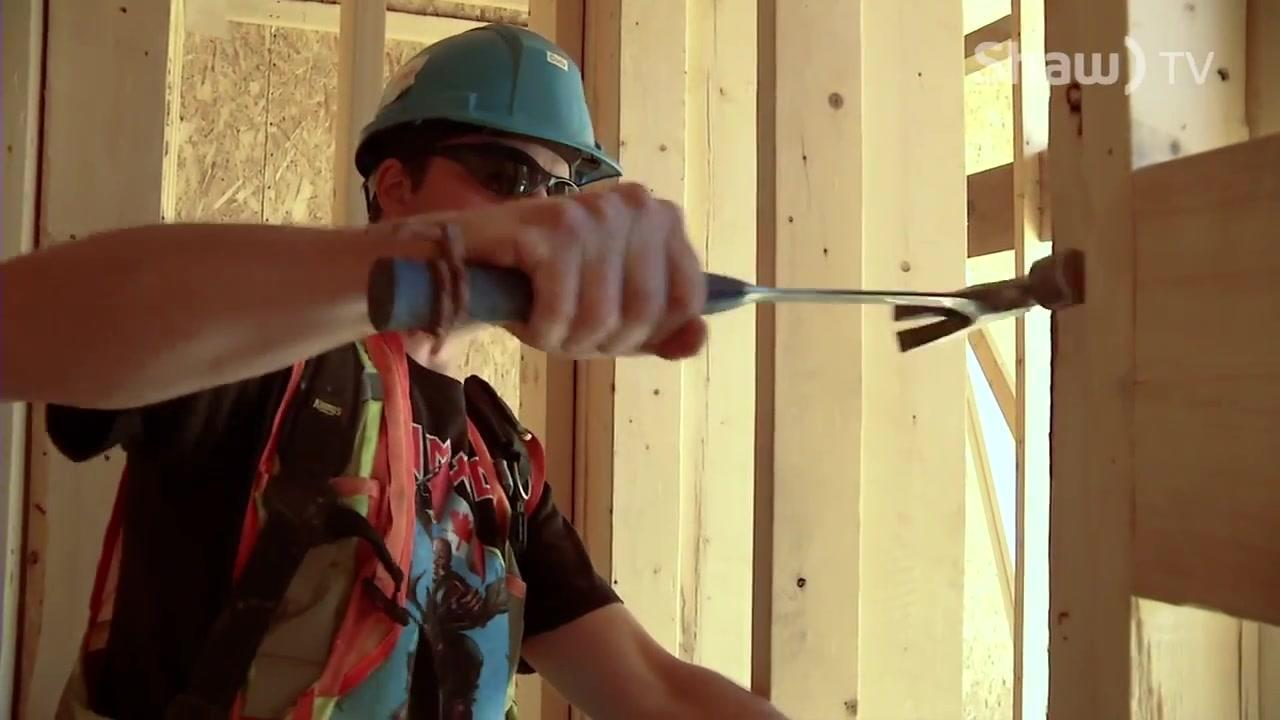vest: (50, 329, 544, 719)
